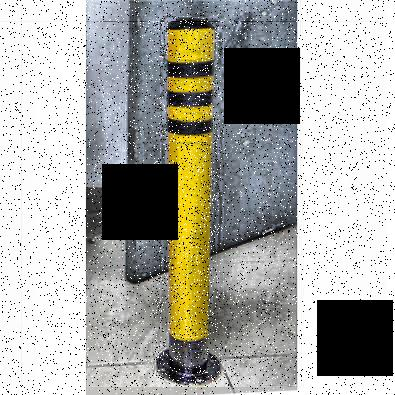bench: (154, 13, 220, 388)
